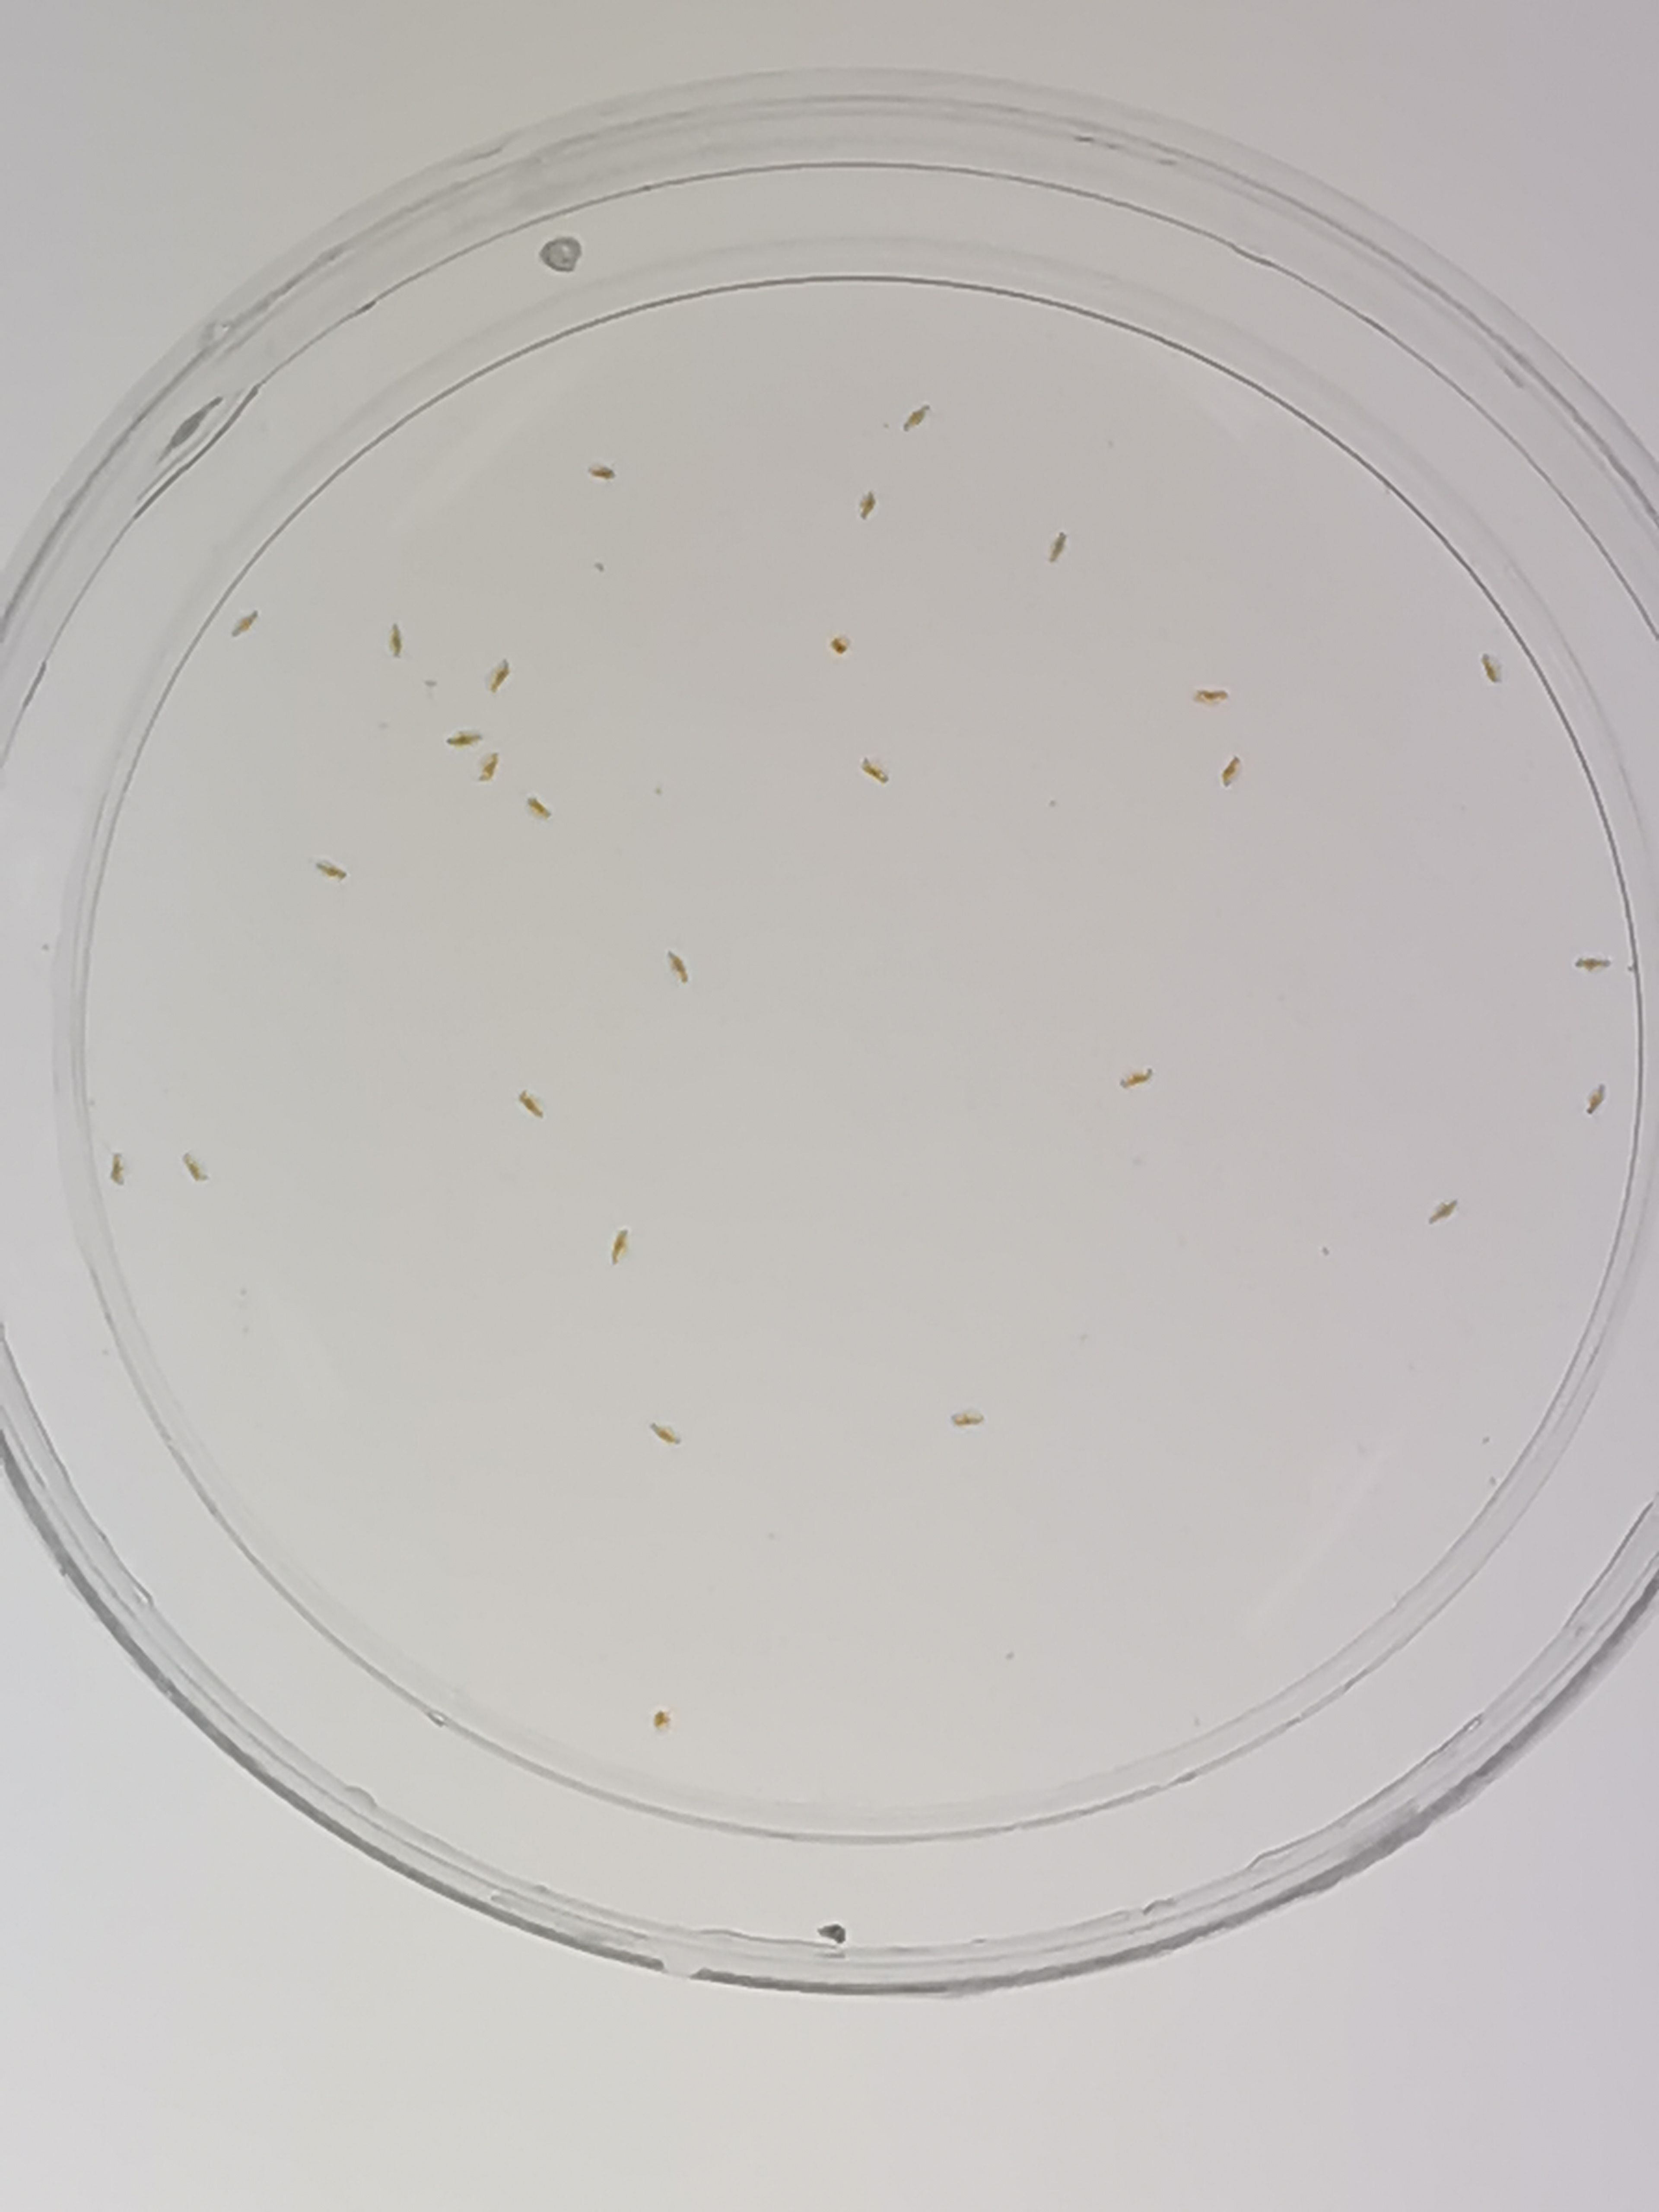D.magna: (516, 1085, 551, 1120), (610, 1224, 636, 1268), (484, 655, 512, 695), (181, 1151, 214, 1184), (648, 1418, 681, 1451), (1427, 1195, 1460, 1228), (1114, 1066, 1157, 1090), (525, 789, 556, 822), (856, 754, 889, 786), (1218, 754, 1248, 789), (1478, 650, 1507, 685), (312, 857, 349, 885), (444, 725, 484, 749), (948, 1406, 988, 1430), (666, 949, 692, 986), (106, 1148, 129, 1190), (228, 610, 260, 639), (1192, 685, 1232, 707), (472, 751, 500, 782), (1574, 954, 1614, 975), (903, 402, 931, 432), (856, 488, 880, 521), (1584, 1082, 1607, 1113), (652, 1703, 674, 1735), (385, 622, 404, 658), (1047, 529, 1068, 563), (587, 460, 617, 482), (828, 632, 852, 658)
